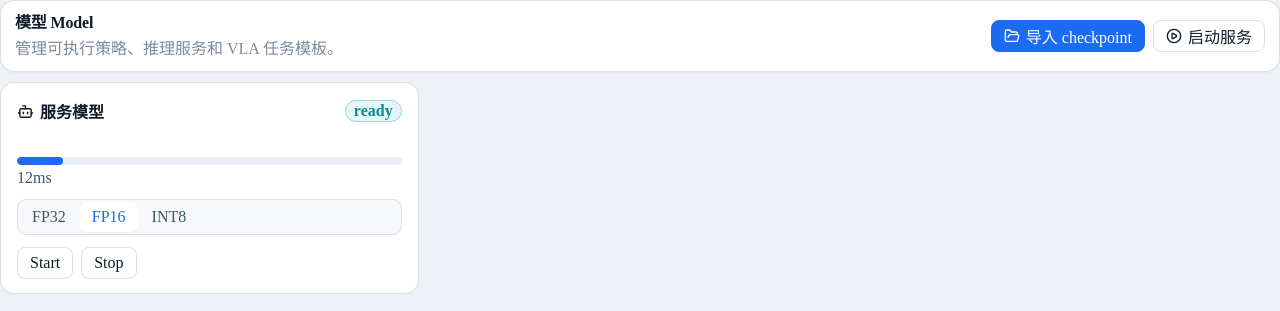
it: model 请求生命周期 › 创建后等列表刷新结束才解除 loading，期间不重复创建
Expected: the text "服务模型" is shown, [17,99,104,123]
What coordinates should you click on to do the following:
click the button "启动服务"
I would click on:
 (1209, 36)
Its box is [1153,20,1265,52].
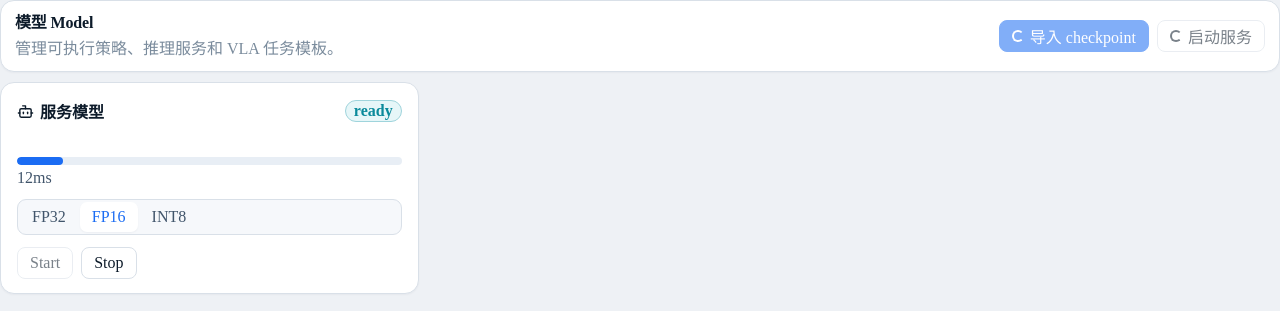
Expected: the button "启动服务" is disabled
What coordinates should you click on to do the following:
click the button "启动服务"
I would click on:
 (1211, 36)
Its box is [1157,20,1265,52].
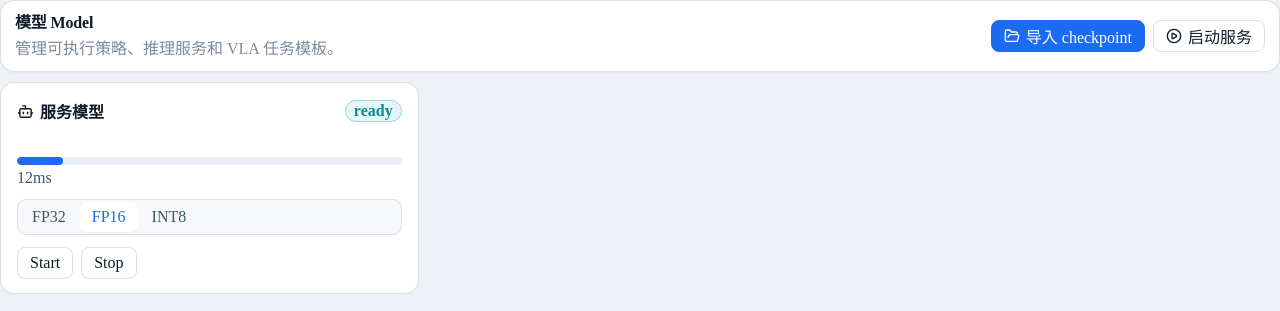
Expected: the button "启动服务" is enabled, [1153,20,1265,52]
